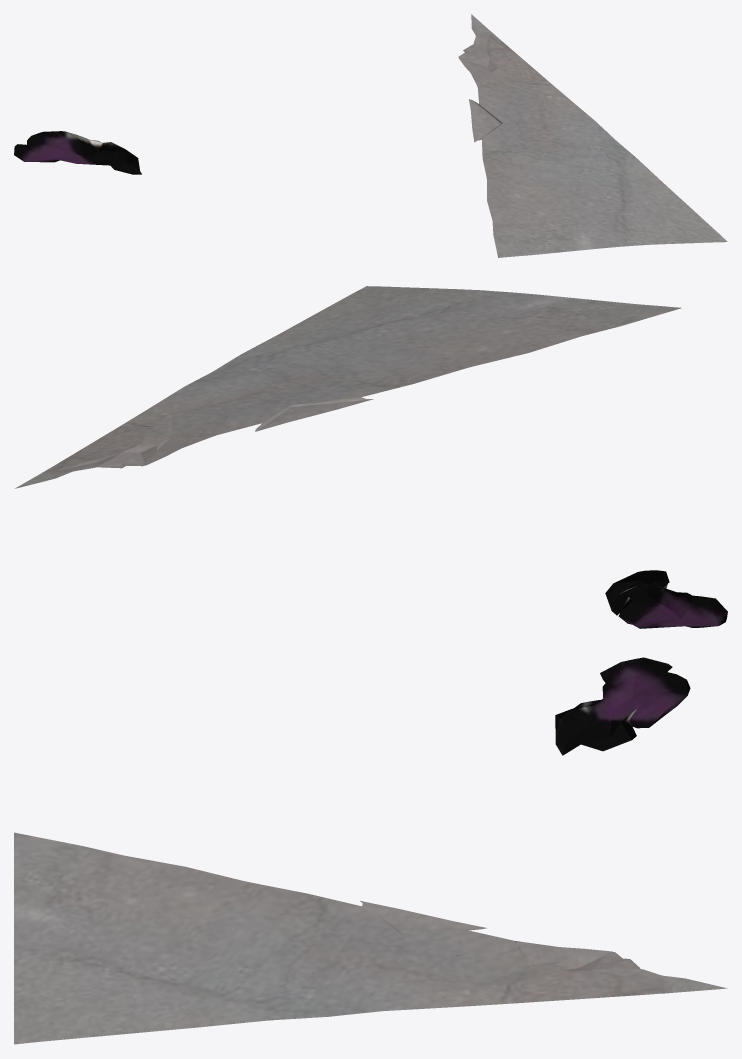
The picture shows the model from 3 angles, top to bottom: view 1: azimuth 30°, elevation 25°; view 2: azimuth 150°, elevation 25°; view 3: azimuth 270°, elevation 25°; orthographic projection. The views are drawn at different scales.
Bounding box in the file's own units: 5.74 × 0.452 × 5.23.
Materials: 1 (1 with a texture image).
